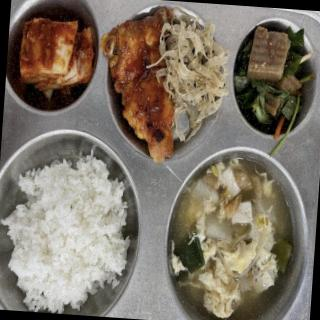Nasi: (4, 157, 134, 313)
